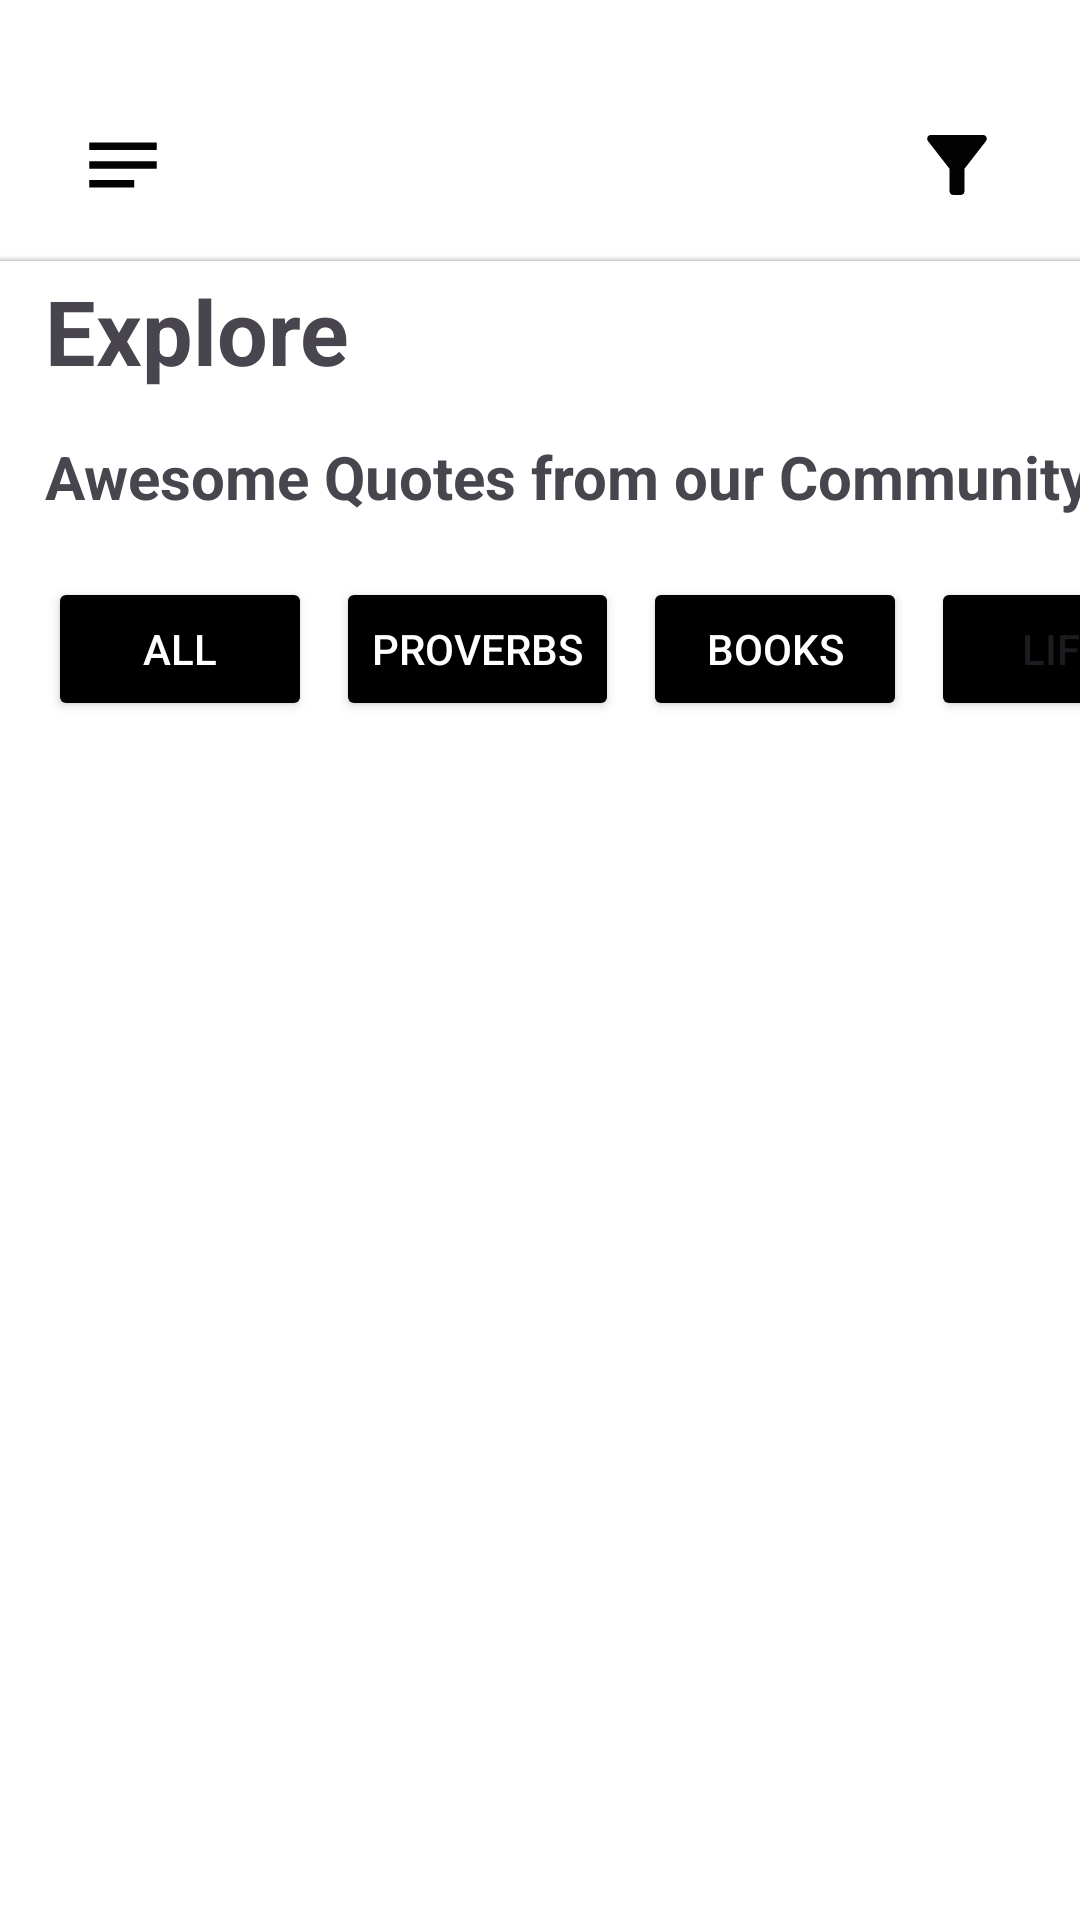

Screen size 1080×1920. Icon name, then its box in pixels as (x1, y1, x2, y2):
filter: (927, 135, 987, 195)
notes: (89, 142, 157, 188)
